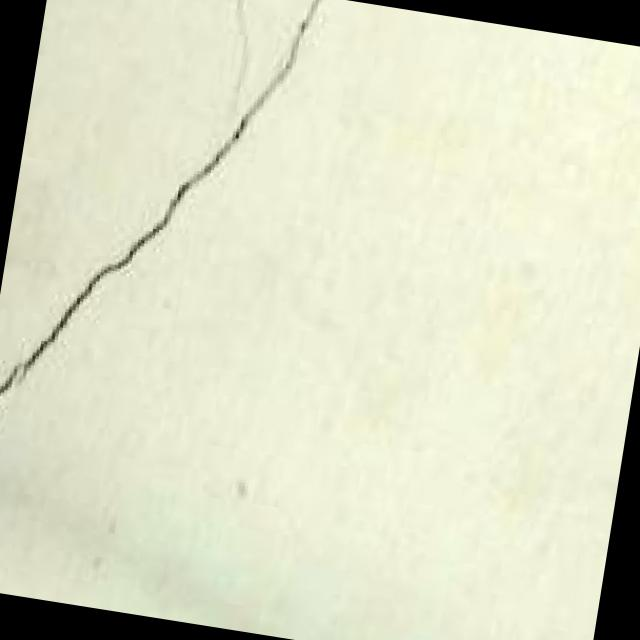crack: (0, 0, 335, 507)
